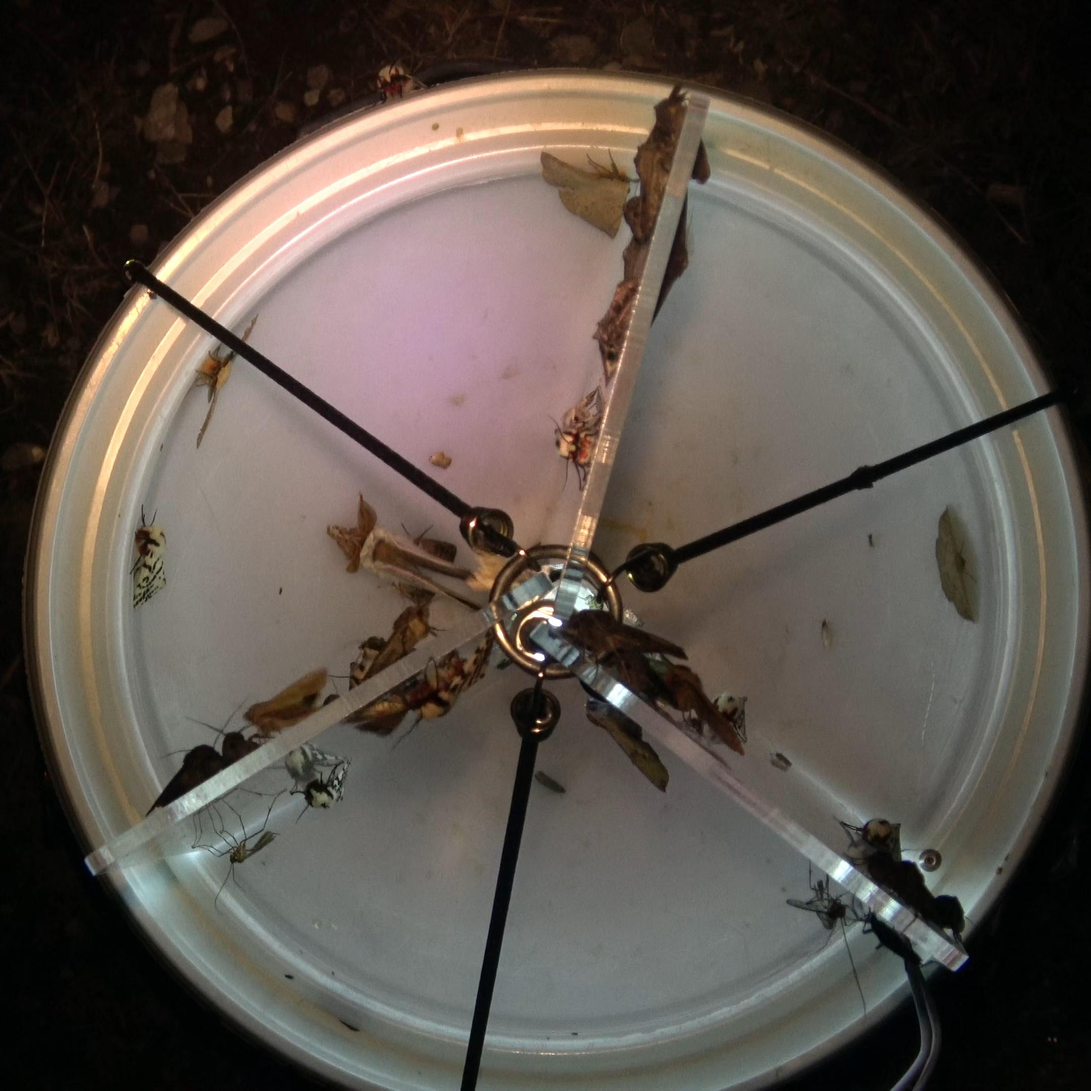bogong: (655, 659, 746, 757), (584, 695, 671, 797), (555, 607, 689, 662), (361, 603, 446, 683), (653, 81, 713, 185), (597, 628, 669, 709), (633, 129, 680, 233), (921, 892, 982, 947), (862, 848, 911, 907), (897, 858, 935, 906), (620, 196, 651, 243)
coleoptera: (858, 905, 926, 968)
hymenoptera: (191, 788, 287, 912), (785, 887, 872, 1016), (800, 859, 834, 902)
moth_na: (322, 487, 483, 613), (397, 624, 500, 752), (537, 146, 641, 240), (193, 312, 262, 451), (242, 662, 330, 738), (649, 187, 696, 329), (143, 740, 222, 820), (184, 700, 270, 768), (933, 503, 980, 625), (398, 647, 464, 720), (289, 757, 354, 827), (127, 502, 169, 610), (549, 417, 604, 492), (466, 548, 534, 594), (833, 814, 905, 857), (372, 57, 430, 106), (343, 696, 407, 740), (344, 634, 385, 692), (401, 520, 457, 561), (598, 278, 645, 324), (591, 325, 626, 385), (710, 686, 752, 734), (559, 384, 603, 428), (612, 238, 649, 280), (390, 576, 437, 609), (535, 770, 567, 797), (619, 602, 646, 628), (425, 451, 454, 469), (581, 681, 605, 700), (819, 619, 830, 648)
objects: (850, 463, 875, 490), (772, 747, 795, 770), (337, 1018, 363, 1034), (321, 693, 343, 706), (145, 290, 160, 301), (453, 127, 465, 140), (866, 532, 875, 549), (282, 972, 295, 982), (430, 121, 441, 131), (571, 1030, 581, 1039), (995, 866, 1004, 876), (158, 442, 165, 454), (278, 585, 284, 597), (1004, 853, 1009, 862), (331, 971, 336, 977), (1044, 772, 1049, 777)
